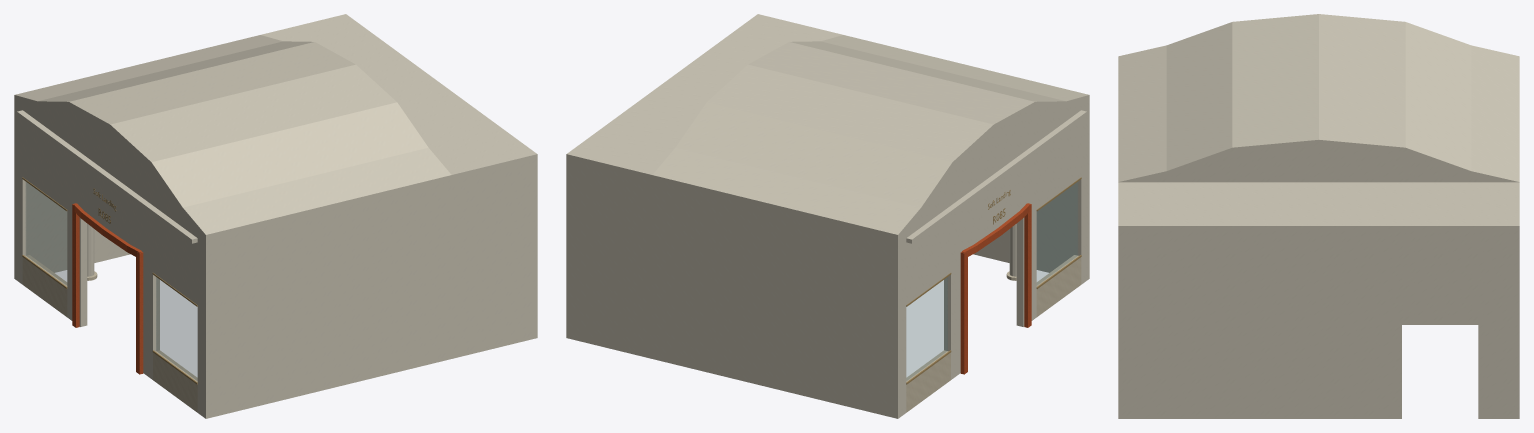
Rendered from SHOP_D09_S100_F158__shell.glb.
3 views of the same model, side by side, from view 1: azimuth 30°, elevation 25°; view 2: azimuth 150°, elevation 25°; view 3: azimuth 270°, elevation 25° (orthographic). The views are drawn at different scales.
Visible parts, largest first — view 1: SHOP_D09_S100_F158__shell__ivory_enamel, SHOP_D09_S100_F158__shell__shop_glass, SHOP_D09_S100_F158__shell__warm_stone, SHOP_D09_S100_F158__shell__retail_terracotta_enamel, SHOP_D09_S100_F158__shell__champagne_metal; view 2: SHOP_D09_S100_F158__shell__ivory_enamel, SHOP_D09_S100_F158__shell__shop_glass, SHOP_D09_S100_F158__shell__warm_stone, SHOP_D09_S100_F158__shell__retail_terracotta_enamel, SHOP_D09_S100_F158__shell__champagne_metal; view 3: SHOP_D09_S100_F158__shell__ivory_enamel.
Part boxes in pixels (x1,y1,x2,y2): SHOP_D09_S100_F158__shell__ivory_enamel: [14, 14, 537, 418]; SHOP_D09_S100_F158__shell__shop_glass: [26, 182, 197, 380]; SHOP_D09_S100_F158__shell__warm_stone: [22, 255, 197, 412]; SHOP_D09_S100_F158__shell__retail_terracotta_enamel: [72, 203, 143, 374]; SHOP_D09_S100_F158__shell__champagne_metal: [22, 177, 197, 384]; SHOP_D09_S100_F158__shell__ivory_enamel: [566, 14, 1089, 418]; SHOP_D09_S100_F158__shell__shop_glass: [906, 182, 1077, 380]; SHOP_D09_S100_F158__shell__warm_stone: [906, 255, 1081, 412]; SHOP_D09_S100_F158__shell__retail_terracotta_enamel: [960, 203, 1031, 374]; SHOP_D09_S100_F158__shell__champagne_metal: [906, 177, 1081, 384]; SHOP_D09_S100_F158__shell__ivory_enamel: [1118, 14, 1519, 418].
Bounding box in the file's own units: 11.86 × 7.5 × 11.6.
Materials: 6 (4 with a texture image).
